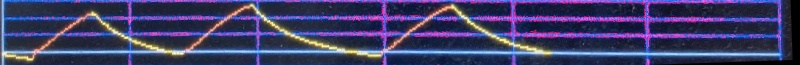normal_volume: (9, 0, 558, 65)
